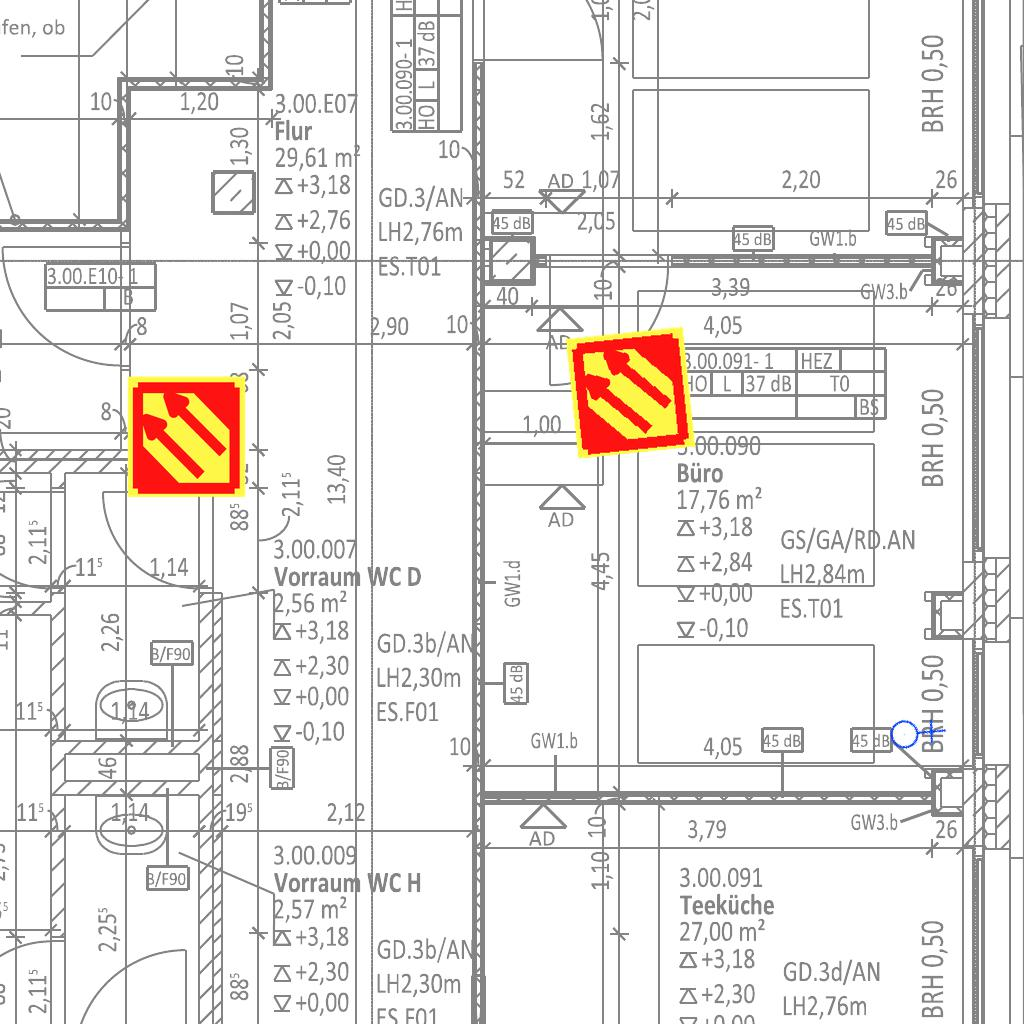ASR_Ansaugrauchmelder: (561, 323, 700, 462), (124, 374, 249, 499)
Elektroanschluss_allgemein_230V_Geraeteanschlussdose_230V: (880, 697, 949, 766)
